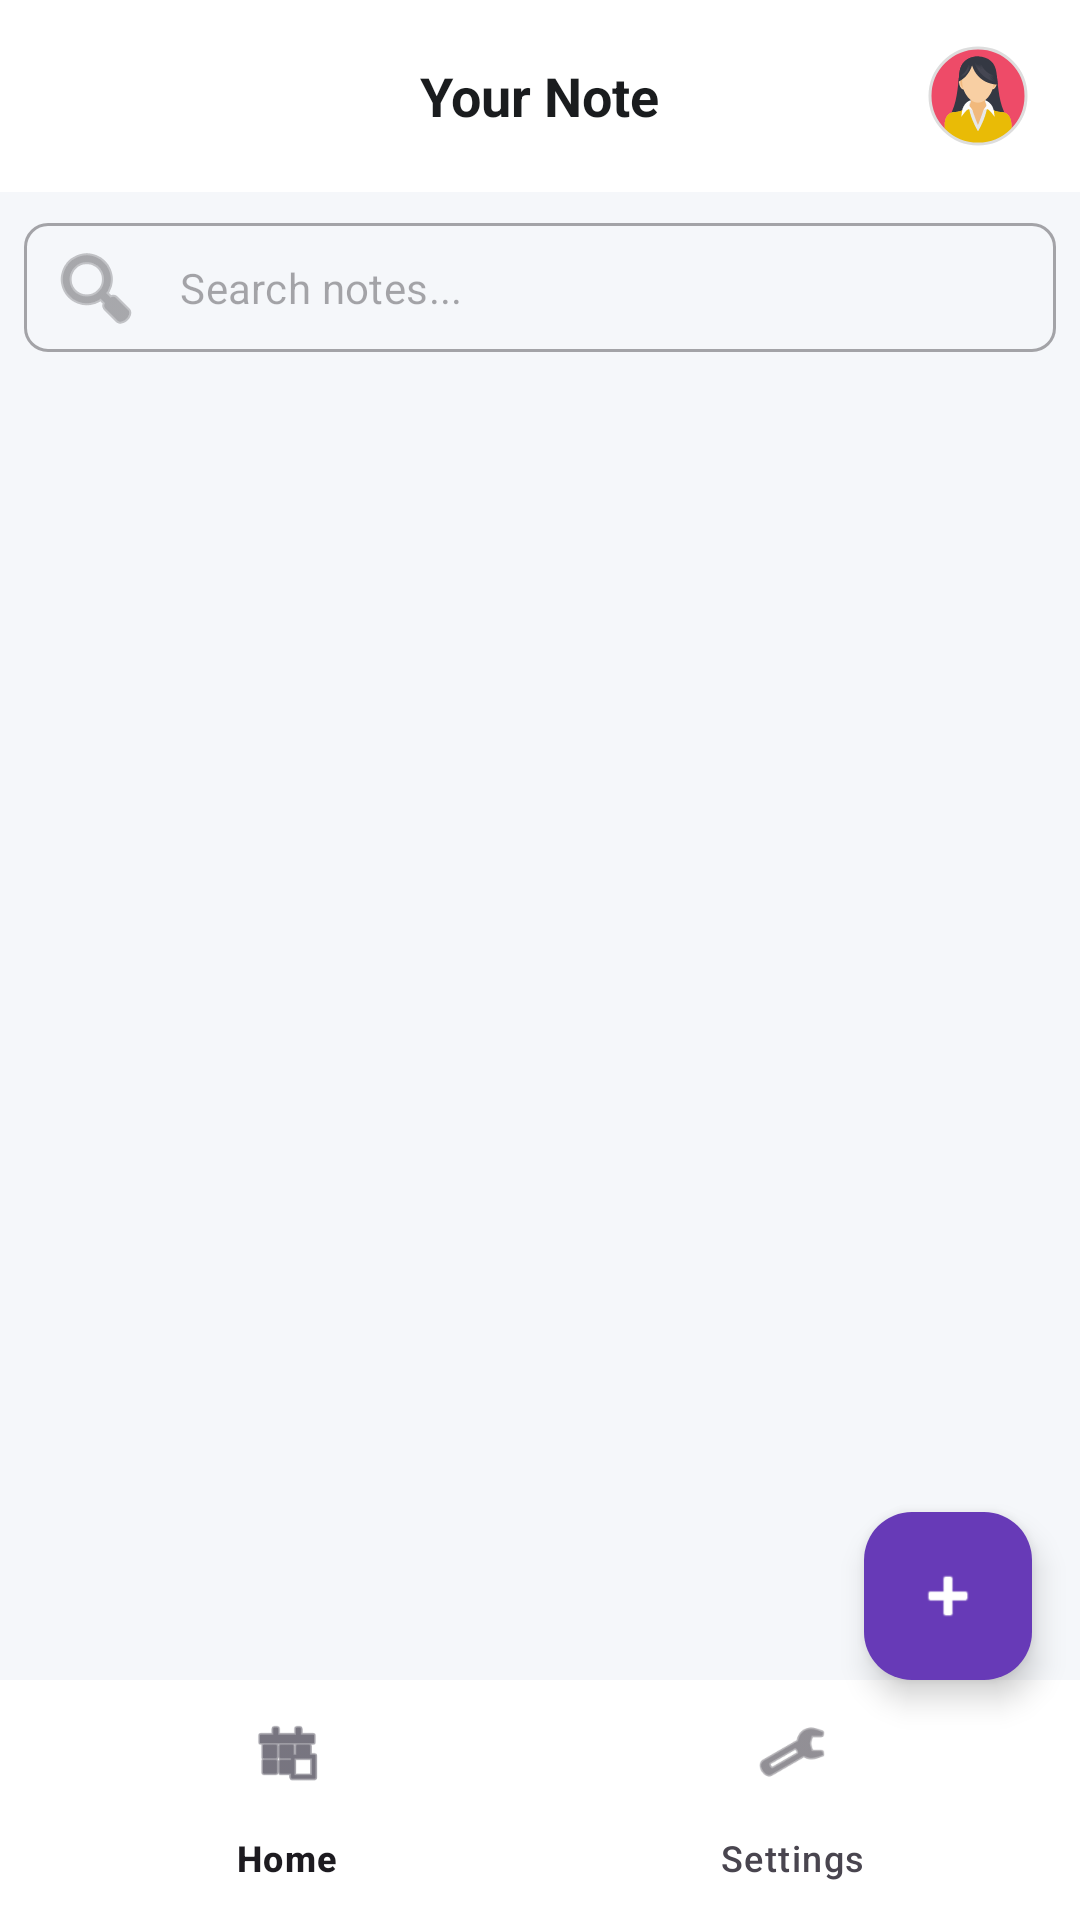

Icon click points for this 1080px x 1920px phone screenshot, format point (x, y):
Add Note: point (948, 1596)
user profile: point (978, 96)
